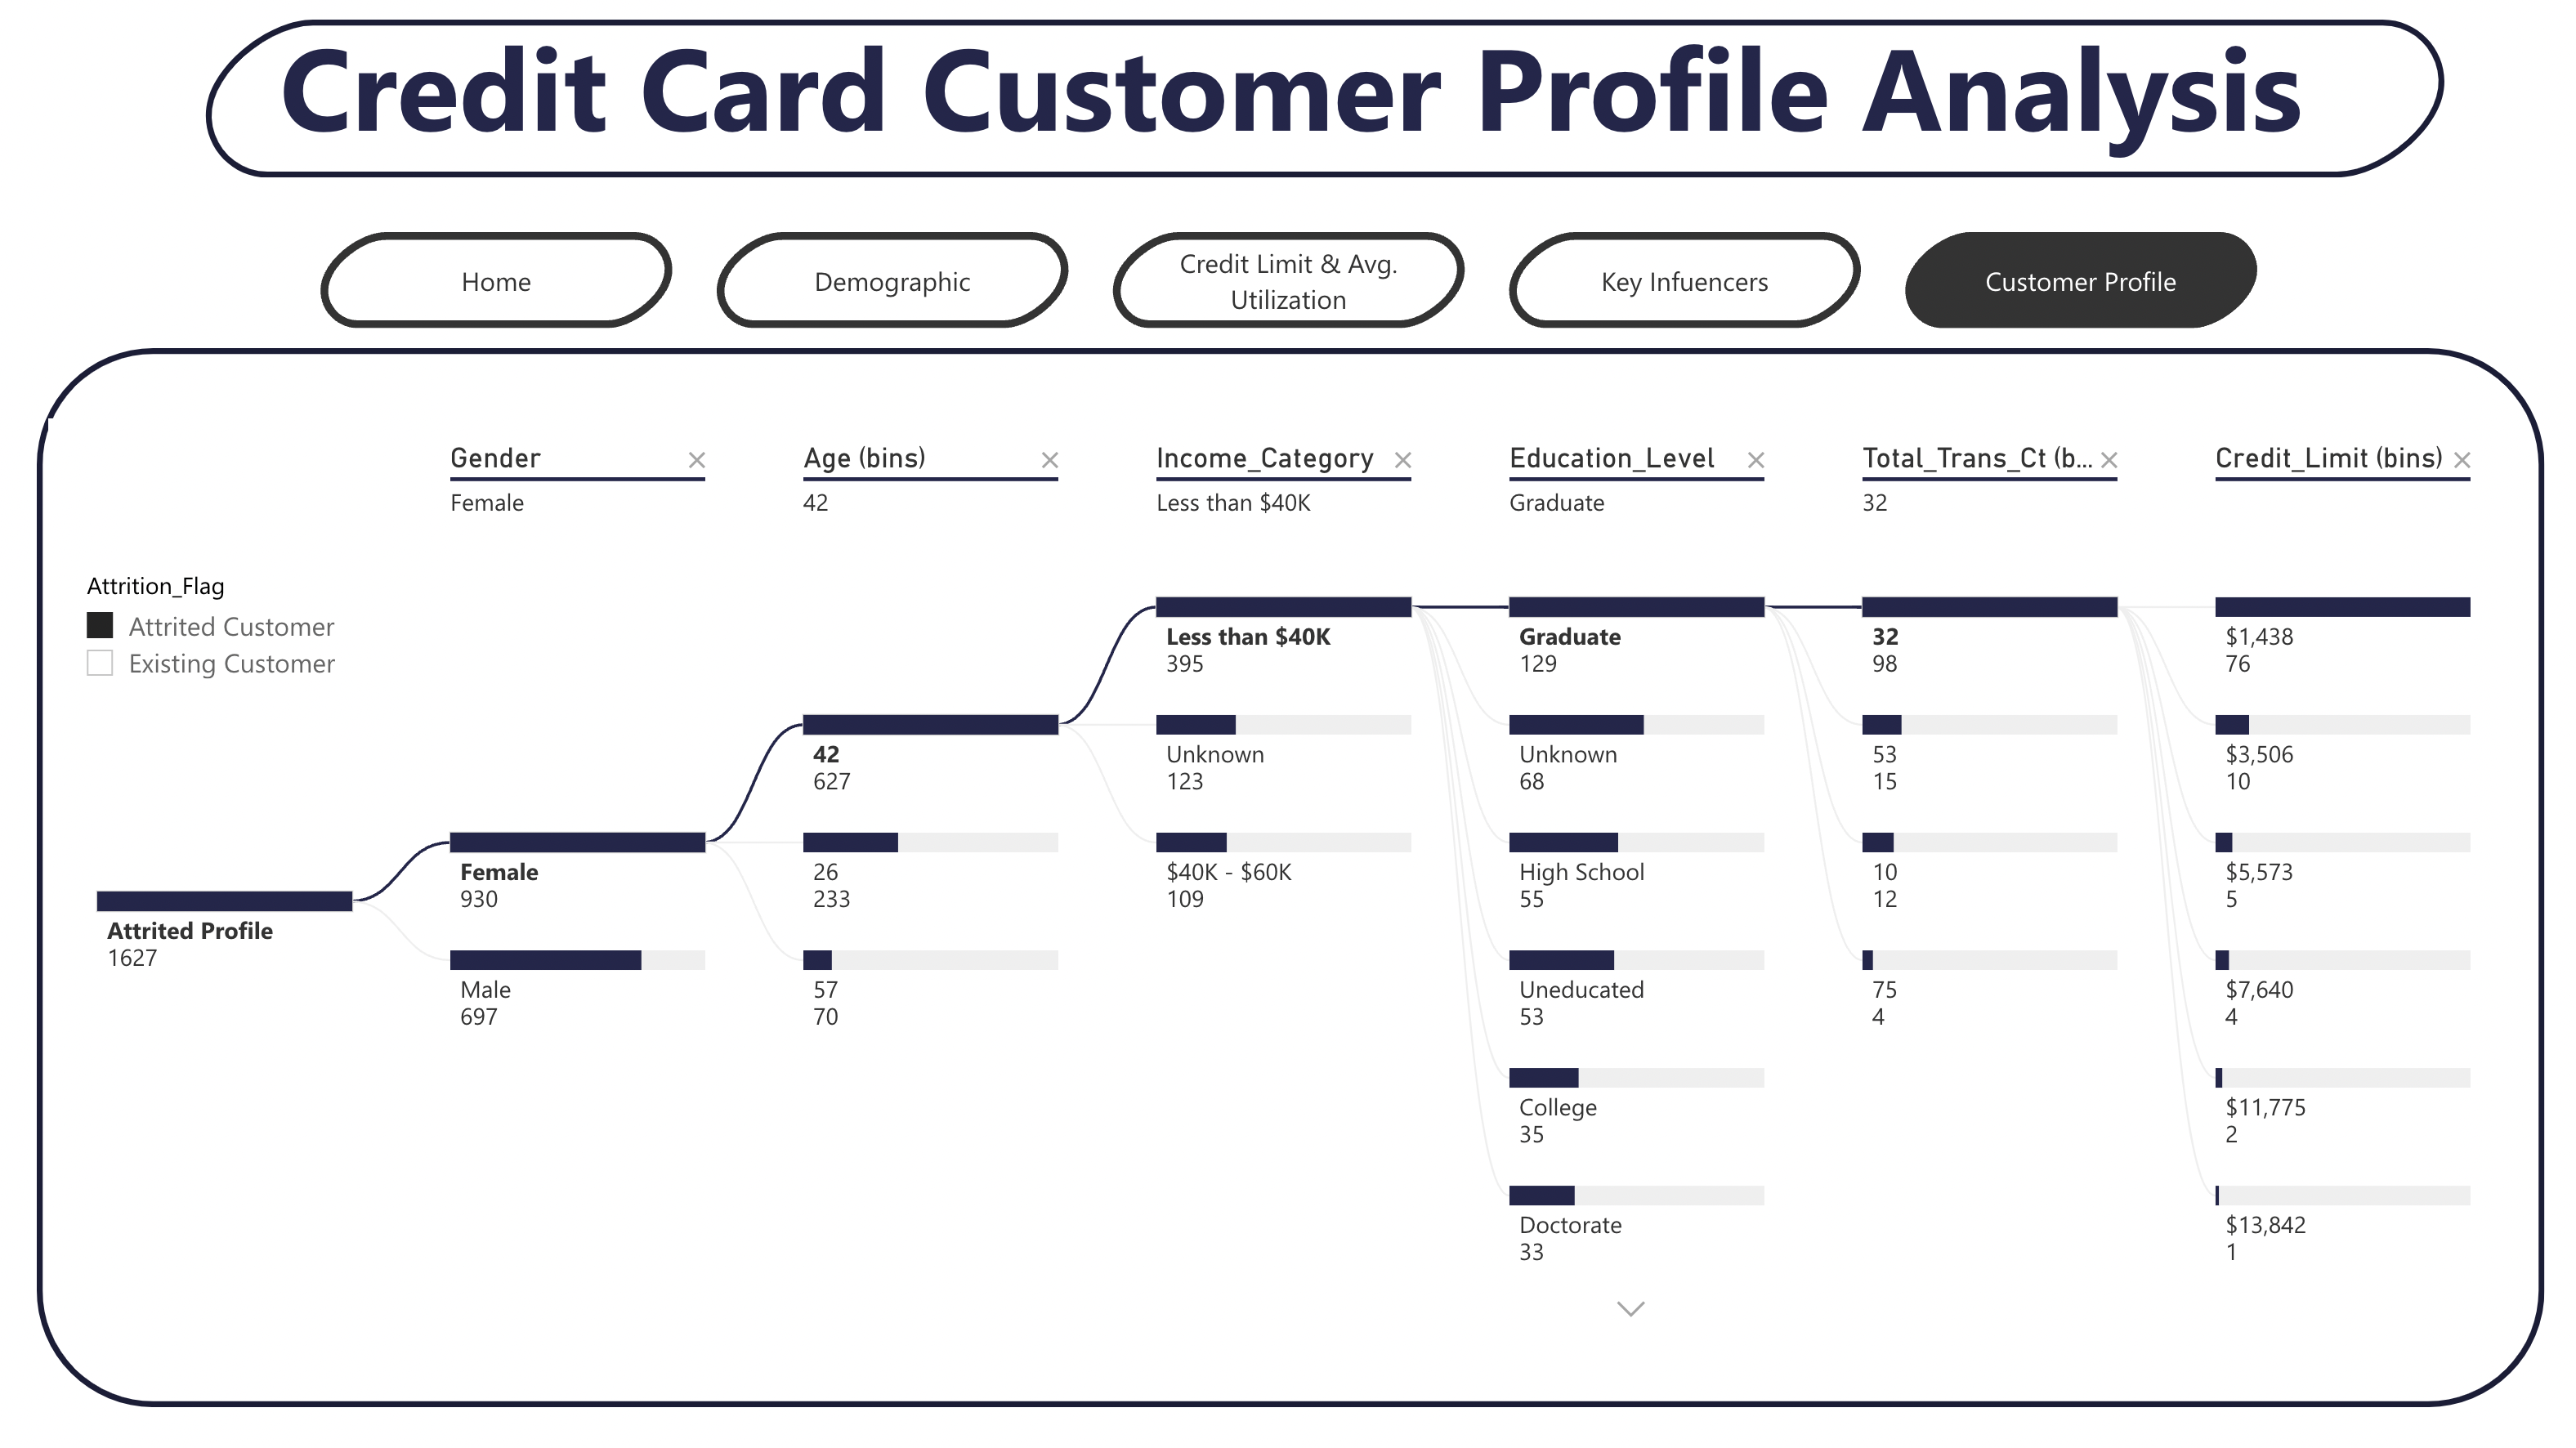

Layout of this report page (visuals, bound fields, positions):
{"tool":"powerbi","page":{"name":"Customer Profile","canvas":[1280,720],"ordinal":4},"visuals":[{"type":"shape","box":[75.7,12,1162.1,80.3],"z":0,"group":"g3"},{"type":"group","id":"g1","title":"Group 4","box":[0,179.4,1278.3,540],"z":0},{"type":"shape","title":"Basic","box":[0,179.4,1278.3,540],"z":0,"group":"g1"},{"type":"decompositionTreeVisual","fields":{"Analyze":["CountNonNull(BankChurners.Attrition_Flag)"],"ExplainBy":["BankChurners.Gender","BankChurners.Customer_Age (bins)","BankChurners.Income_Category","BankChurners.Education_Level","BankChurners.Total_Trans_Ct (bins)","BankChurners.Credit_Limit (bins)","BankChurners.Months_Inactive_12_mon (bins)"]},"box":[1.1,210.6,1259.5,480.4],"z":0,"group":"g2"},{"type":"textbox","box":[0,0,1279,119.6],"z":1000,"group":"g3"},{"type":"pageNavigator","box":[138.4,119.6,1001.4,49.6],"z":1000},{"type":"group","id":"g2","title":"Group 1","box":[1.1,210.6,1259.5,480.4],"z":1000,"group":"g1"},{"type":"slicer","fields":{"Values":["BankChurners.Attrition_Flag"]},"box":[12.9,287.1,198,85.4],"z":1000,"group":"g2"},{"type":"group","id":"g3","title":"Group 3","box":[0,0,1279,119.6],"z":2000}]}

Visuals, with their boxes in screenshot pixels (x1, y1, x2, y2), scaled from the page's 1280x720 canvas onto the 2576x1448 screenshot:
shape: pyautogui.locateOnScreen(152, 25, 2491, 185)
"Group 4" group: pyautogui.locateOnScreen(0, 361, 2573, 1447)
"Basic" shape: pyautogui.locateOnScreen(0, 361, 2573, 1447)
decompositionTreeVisual - CountNonNull(BankChurners.Attrition_Flag) x BankChurners.Gender: pyautogui.locateOnScreen(2, 423, 2537, 1390)
textbox: pyautogui.locateOnScreen(0, 0, 2574, 240)
pageNavigator: pyautogui.locateOnScreen(279, 240, 2294, 340)
"Group 1" group: pyautogui.locateOnScreen(2, 423, 2537, 1390)
slicer - BankChurners.Attrition_Flag: pyautogui.locateOnScreen(26, 578, 424, 749)
"Group 3" group: pyautogui.locateOnScreen(0, 0, 2574, 240)
